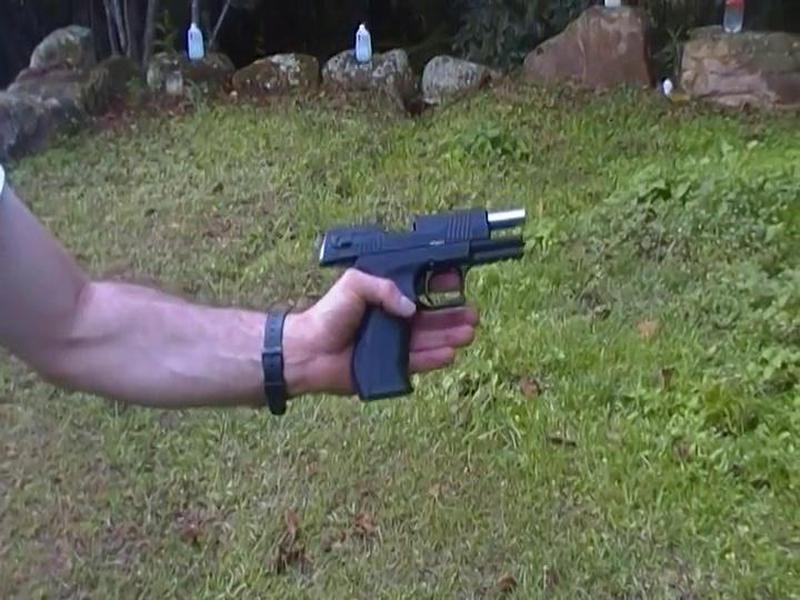Pistola: (302, 188, 550, 403)
